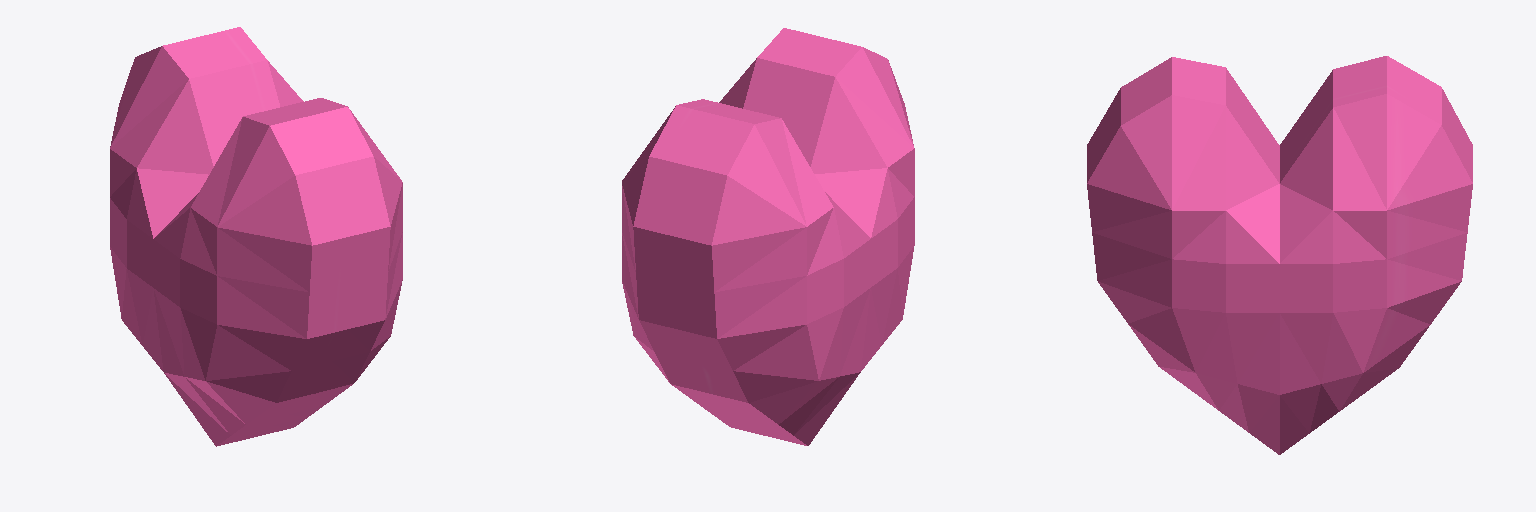
The picture shows the model from 3 angles: view 1: azimuth 30°, elevation 25°; view 2: azimuth 150°, elevation 25°; view 3: azimuth 270°, elevation 25°; orthographic projection.
Parts seen in each view (by area): view 1: Cube; view 2: Cube; view 3: Cube.
Boxes of the visible parts, <box> form: Cube: <box>110,27,402,446</box>; Cube: <box>622,28,914,445</box>; Cube: <box>1087,56,1472,454</box>.
Bounding box in the file's own units: 1.1 × 1.86 × 1.8.
1 materials, 1 textured.